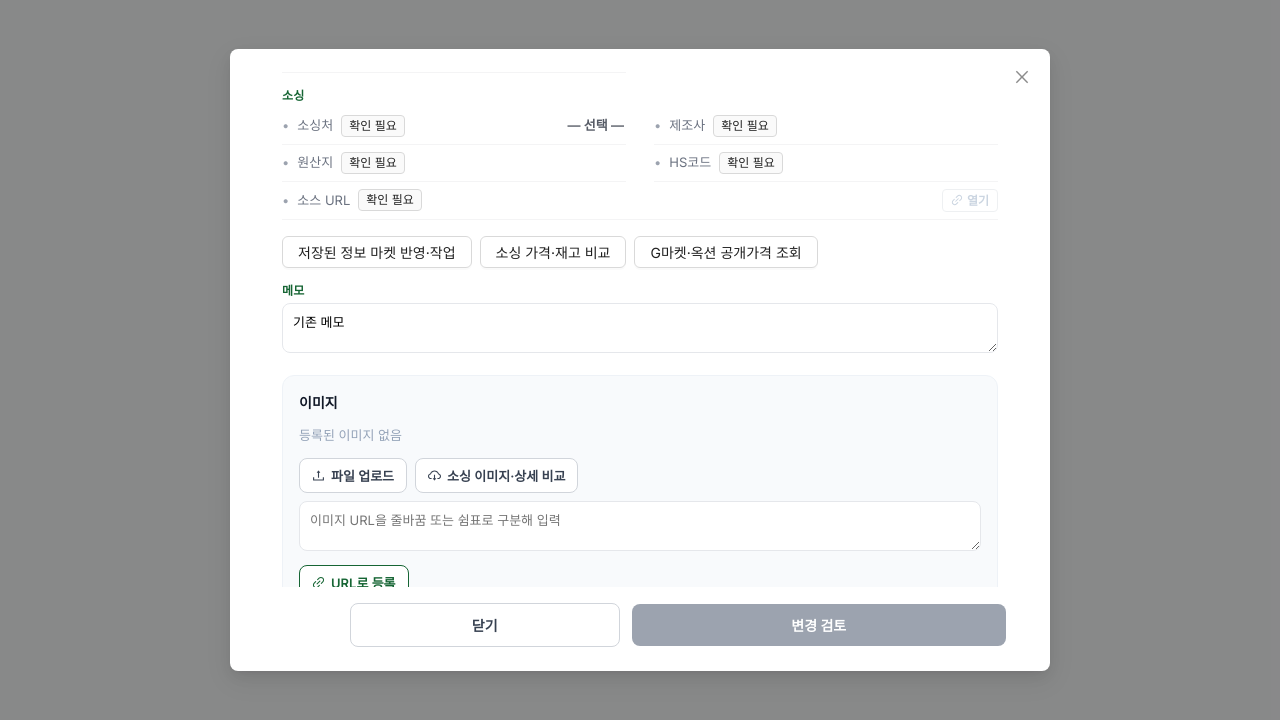
Test: 상품 이미지 업로드 › 저장하지 않은 상품 편집이 있으면 업로드로 덮어쓰지 않는다
(page scrolled)
Replace the text in the text box showing "기존 메모" with "아직 저장하지 않은 메모" at (640, 328), box [282, 302, 998, 352]
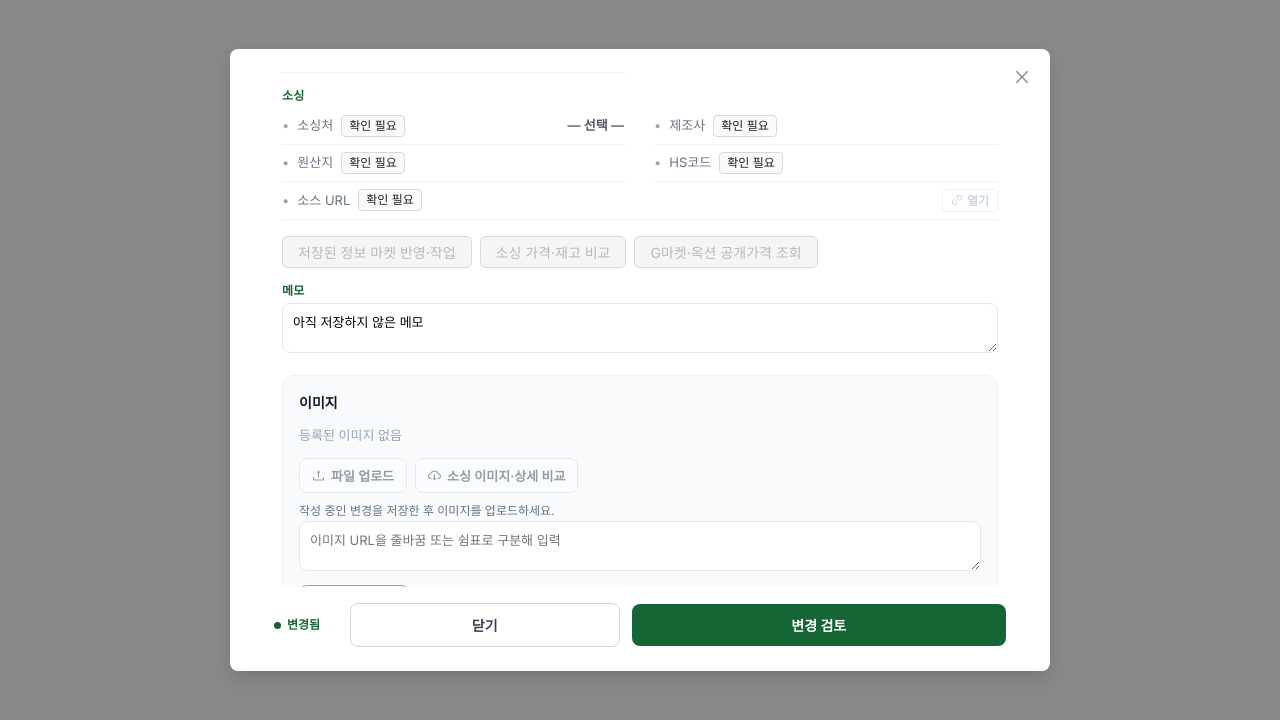
Expected: the button "파일 업로드" is disabled, [299, 458, 407, 492]
